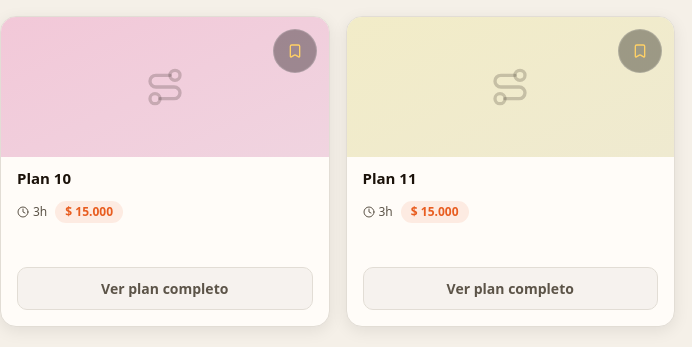
Scenario: SavedPlansPanel (CU40 + CU42) › removes a card from the list when its plan is unsaved (CU42)
The image size is (692, 347).
Check: the heading "Plan 10" is shown, box [17,168,71,188]
Check: the heading "Plan 11" is shown, box [362,168,416,188]
Click the 1st button named "Quitar de guardados".
click(294, 51)  # box [272,29,316,73]
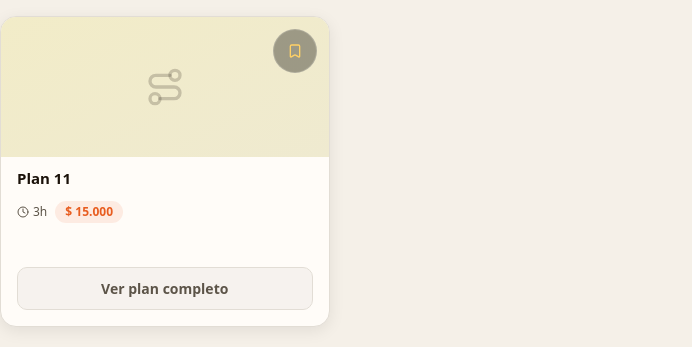
Check: the heading "Plan 11" is shown, box [17,168,71,188]
Check: the link "Plan 10" is gone
